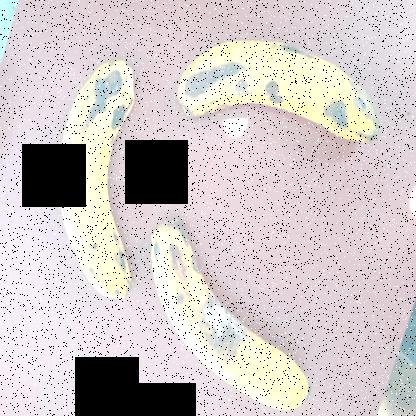overripe: (139, 211, 318, 403), (169, 18, 381, 178), (46, 50, 148, 306)
rotten: (181, 268, 258, 369)
